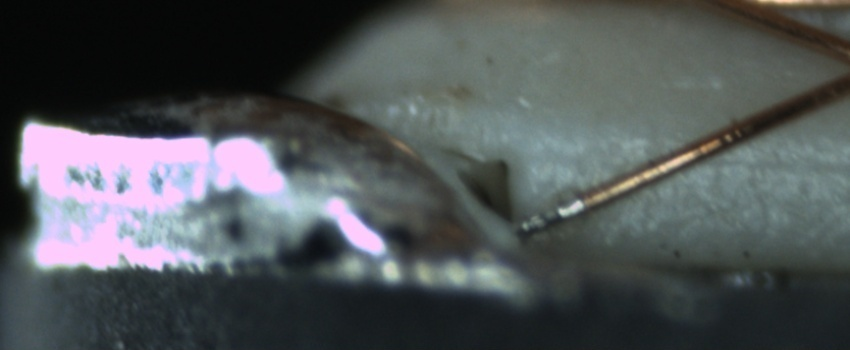CL: (830, 36, 850, 92)
DL: (563, 123, 847, 189)
TS: (512, 197, 580, 235)
TTCW: (512, 178, 602, 237)
